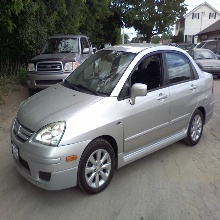no damage: (9, 42, 214, 196), (26, 35, 93, 98), (190, 45, 220, 82)
